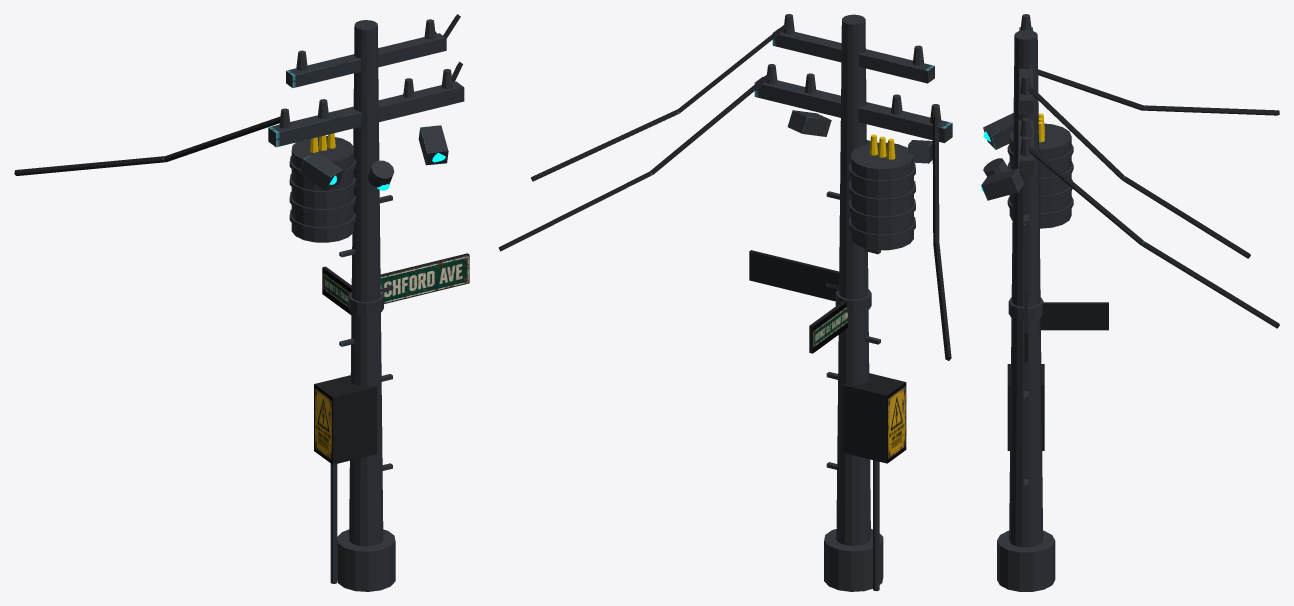
Rendered from prop_utility_pole.glb.
The picture shows the model from 3 angles, left to right: view 1: azimuth 30°, elevation 25°; view 2: azimuth 150°, elevation 25°; view 3: azimuth 270°, elevation 25°; orthographic projection. The views are drawn at different scales.
Visible parts, largest first — view 1: PropUtilityPole_Mesh; view 2: PropUtilityPole_Mesh; view 3: PropUtilityPole_Mesh.
Part boxes in pixels (x1,y1,x2,y2): PropUtilityPole_Mesh: (14,14,469,591); PropUtilityPole_Mesh: (498,14,952,591); PropUtilityPole_Mesh: (981,14,1279,591).
Size of the model in its own units: 5.25 by 6.2 by 3.08.
2 materials, 2 textured.
